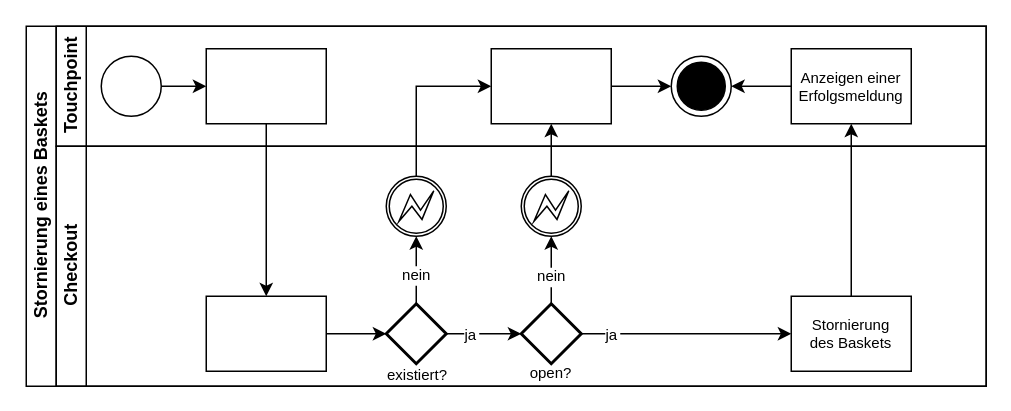
This 1011x411 diagram has some shape labels left out. Each missing label, with the centre of its shape:
"Bsp. Kunde hat nicht genügend Geld bei sich" belongs at point 265,85.
"Suche des Baskets anhand Basket ID" belongs at point 265,333.
"Verarbeitung des Fehlercodes" belongs at point 550,85.
